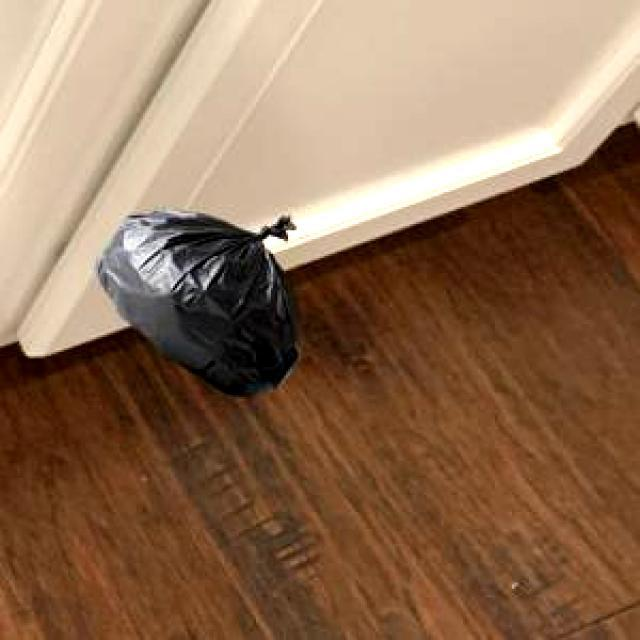Bolsa-de-nilon: (96, 209, 300, 400)
